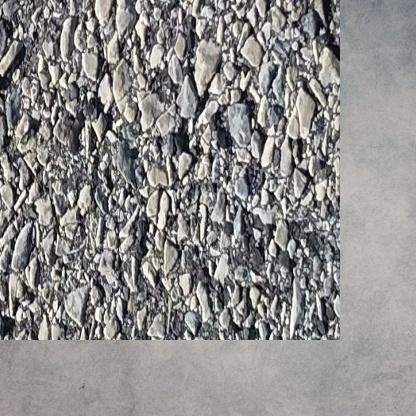Cracks: (289, 0, 314, 64), (311, 111, 315, 136)
